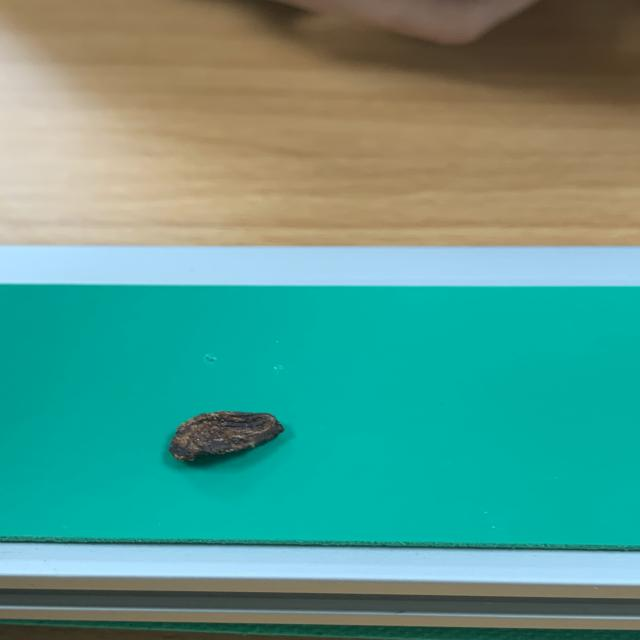Flat_cocoabeans: (75, 379, 366, 495)
